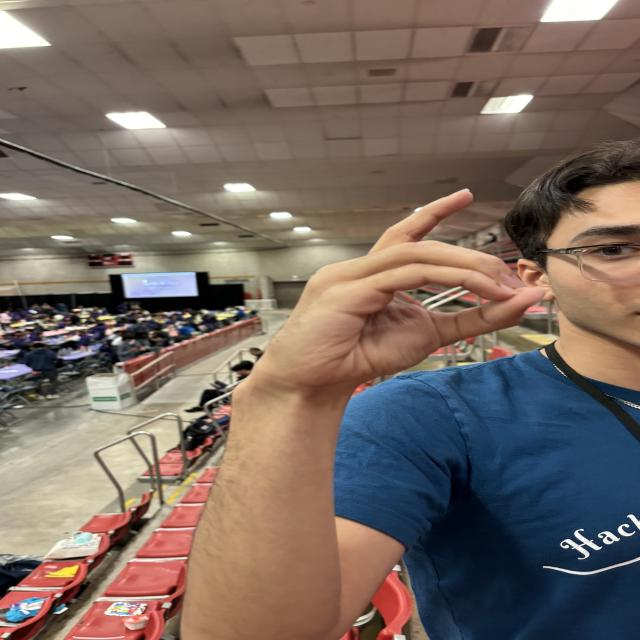D: (229, 182, 548, 399)
